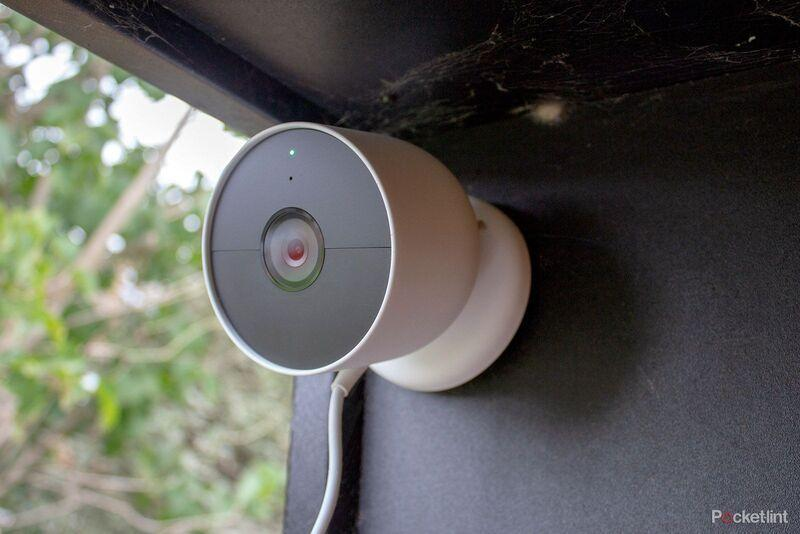nest: (196, 116, 535, 400)
